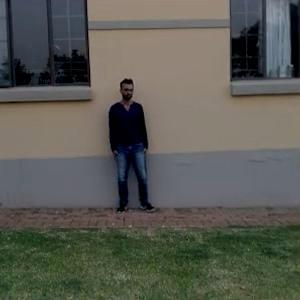follow: (108, 76, 148, 212)
